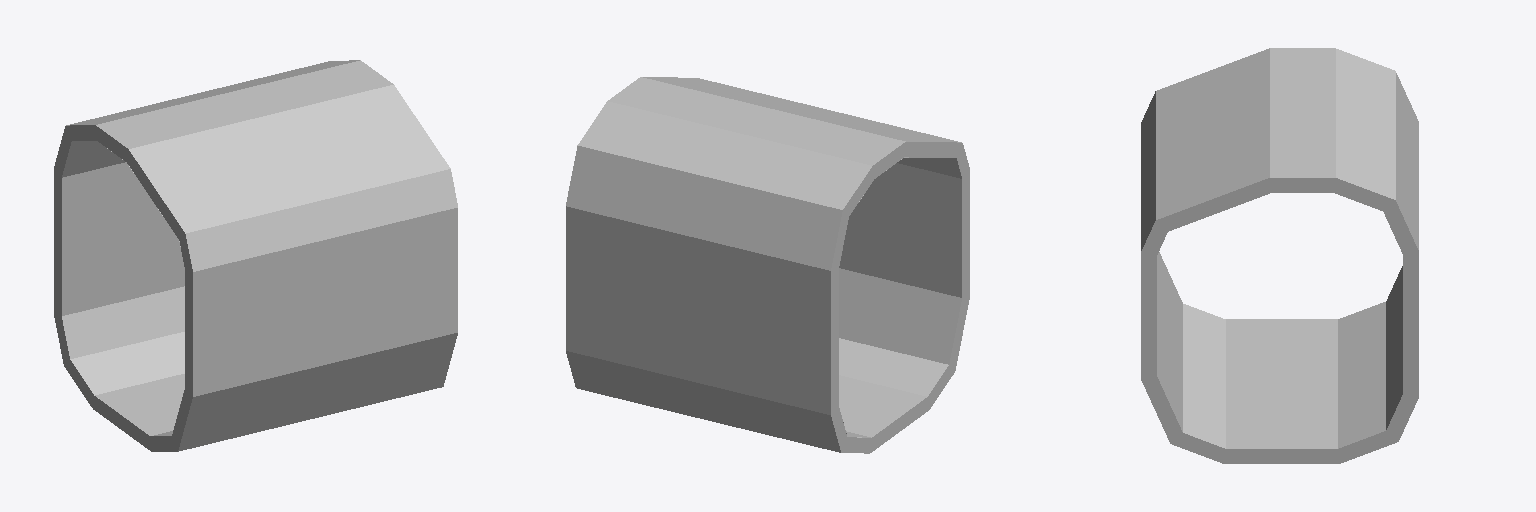
File: trunk1_fallen.obj
3 renders of one model, left to right at view 1: azimuth 30°, elevation 25°; view 2: azimuth 150°, elevation 25°; view 3: azimuth 270°, elevation 25°, orthographic.
Visible parts, largest first — view 1: Cube.009_Cube.004; view 2: Cube.009_Cube.004; view 3: Cube.009_Cube.004.
Boxes of the visible parts, x1,y1,x2,y2 form: Cube.009_Cube.004: [54, 60, 457, 451]; Cube.009_Cube.004: [566, 77, 969, 453]; Cube.009_Cube.004: [1141, 48, 1418, 463].
Size of the model in its own units: 1 by 1.03 by 0.9102.